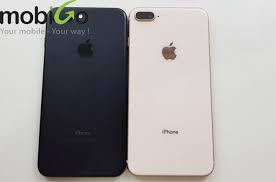iphone: (123, 5, 215, 179)
